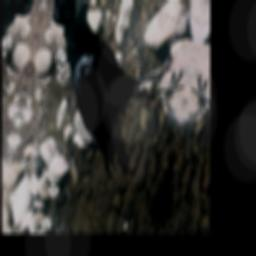Crow: (19, 0, 201, 189)
